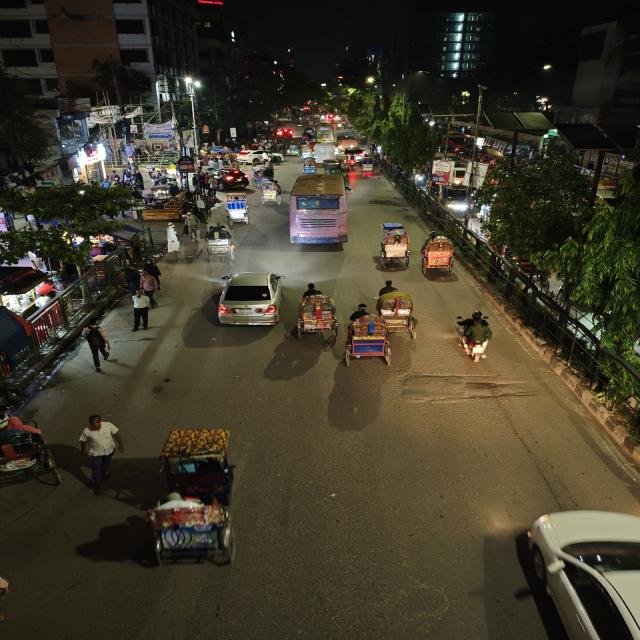bus: (286, 174, 352, 250), (316, 124, 336, 143)
car: (505, 505, 639, 640), (212, 269, 288, 331), (436, 184, 476, 214), (212, 168, 250, 190), (344, 146, 368, 164), (238, 147, 261, 164)
cng: (323, 159, 345, 175), (286, 143, 302, 157)
motorcycle: (451, 310, 497, 366), (259, 152, 281, 166)
pedestrian: (76, 412, 125, 488), (78, 321, 114, 363), (137, 259, 164, 303), (128, 290, 156, 331), (180, 208, 202, 241)
pickup_van: (338, 134, 357, 147)
rickshaw: (137, 422, 254, 572), (0, 406, 61, 494), (339, 302, 399, 368), (292, 281, 339, 339), (376, 280, 420, 340), (374, 222, 415, 270), (419, 232, 458, 281), (200, 224, 240, 263), (219, 193, 256, 225), (258, 179, 283, 206), (358, 156, 377, 177), (300, 157, 320, 175), (253, 168, 272, 185), (300, 146, 314, 158)
truck: (312, 144, 336, 160)
